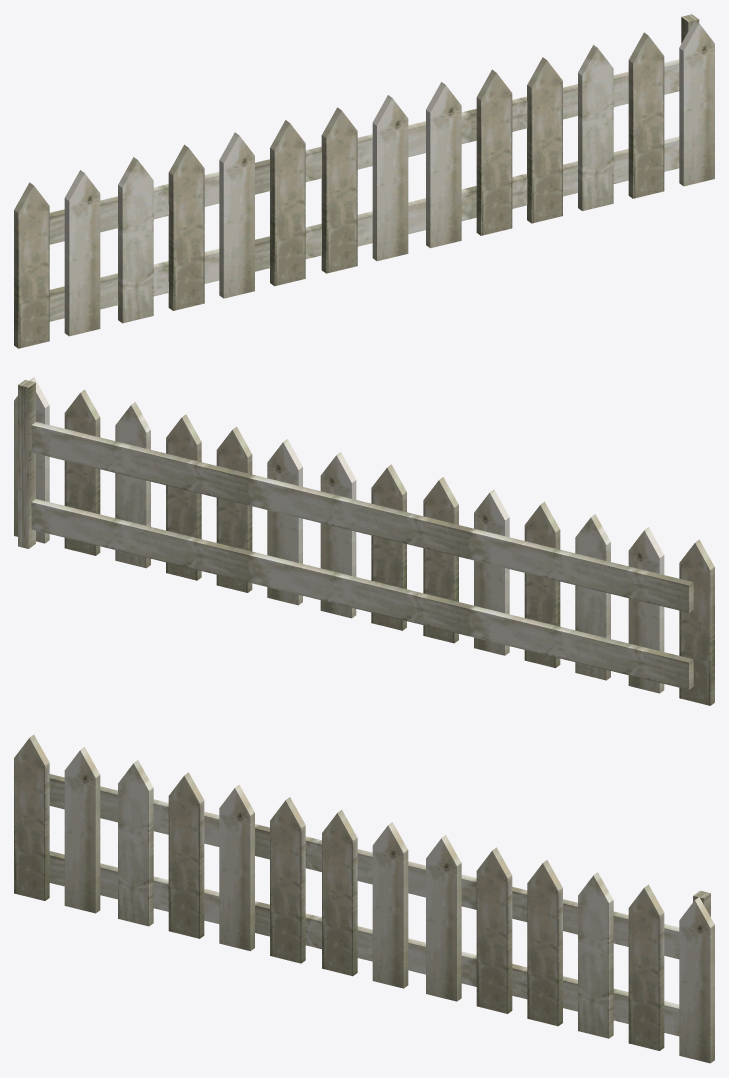
File: dyn_f_wood_2.obj
3 views of the same model, one above another, from view 1: azimuth 30°, elevation 25°; view 2: azimuth 150°, elevation 25°; view 3: azimuth 330°, elevation 25° (orthographic).
Parts seen in each view (by area): view 1: DYN_F_WOOD_2; view 2: DYN_F_WOOD_2; view 3: DYN_F_WOOD_2.
Part boxes in pixels (<box>): DYN_F_WOOD_2: <box>14,14,714,348</box>; DYN_F_WOOD_2: <box>14,377,714,705</box>; DYN_F_WOOD_2: <box>14,734,714,1063</box>.
Size of the model in its own units: 5.45 by 1.21 by 0.1598.
